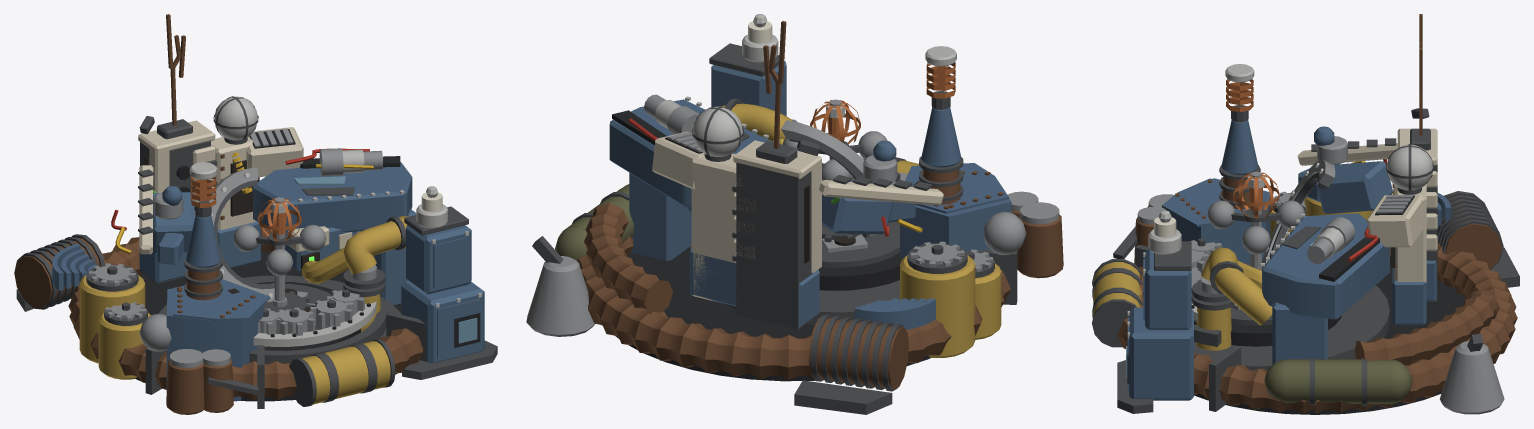
Rendered from electromagnetic-plant.glb.
3 views of the same model, side by side, from view 1: azimuth 30°, elevation 25°; view 2: azimuth 150°, elevation 25°; view 3: azimuth 270°, elevation 25° (orthographic). The views are drawn at different scales.
Parts seen in each view (by area): view 1: body, anim_spin_arms; view 2: body, anim_spin_arms; view 3: body, anim_spin_arms.
Boxes of the visible parts, bbox=[...] form: body: bbox=[14, 14, 497, 414]; anim_spin_arms: bbox=[233, 197, 326, 276]; body: bbox=[526, 14, 1063, 414]; anim_spin_arms: bbox=[782, 100, 887, 180]; body: bbox=[1092, 14, 1519, 414]; anim_spin_arms: bbox=[1207, 172, 1304, 254].
Bounding box in the file's own units: 3.69 × 2.98 × 3.84.
